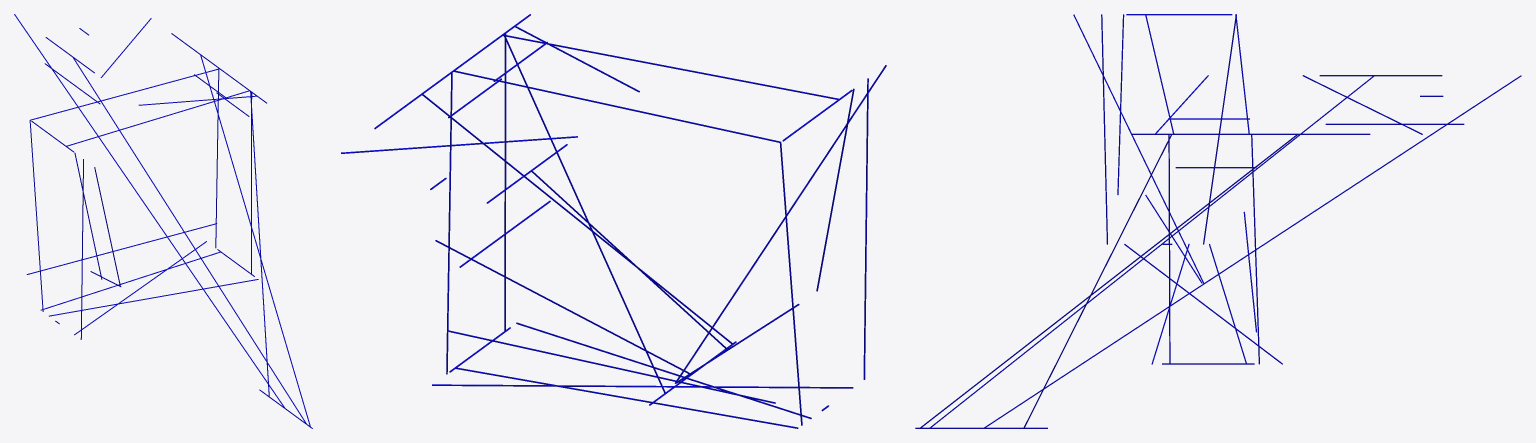
Rendered from corrected_3d_strokes.glb.
The picture shows the model from 3 angles, left to right: view 1: azimuth 30°, elevation 25°; view 2: azimuth 150°, elevation 25°; view 3: azimuth 270°, elevation 25°; orthographic projection. The views are drawn at different scales.
Visible parts, largest first — view 1: world; view 2: world; view 3: world.
Part boxes in pixels (bbox=[...]): world: bbox=[14, 14, 312, 428]; world: bbox=[341, 14, 886, 428]; world: bbox=[915, 14, 1521, 428].
Size of the model in its own units: 8.69 by 10.77 by 18.51.
